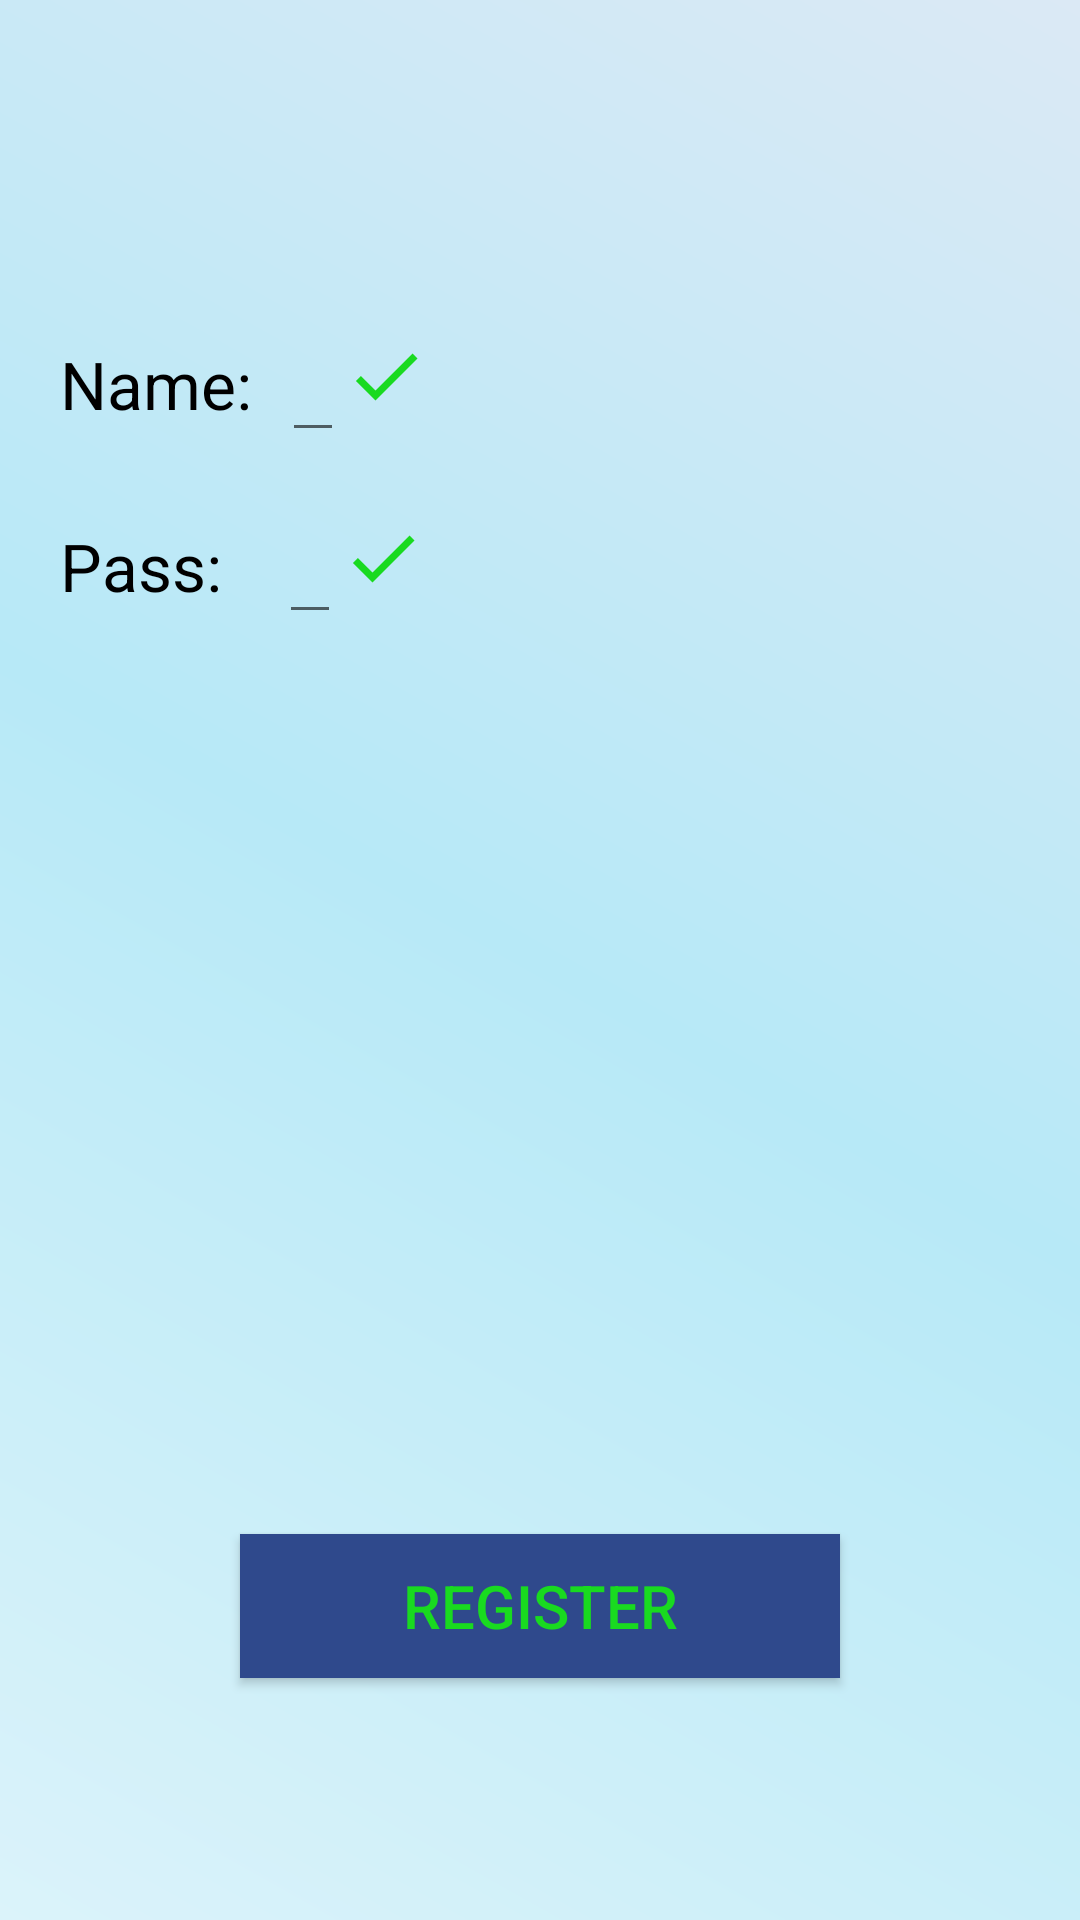

Locate icon controls on the screen. Image size 1080×1920, boxes as bbox=[x1, y1, x2, y2].
check: bbox=[356, 353, 418, 401], bbox=[353, 535, 415, 583]
